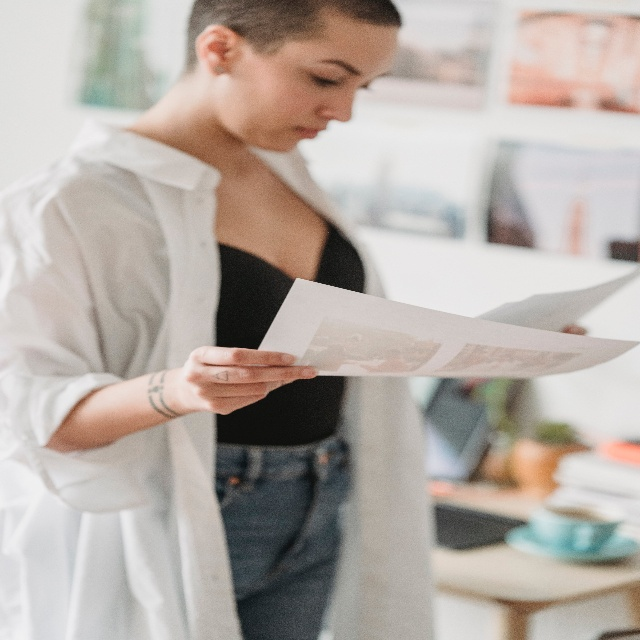Sin_guantes: (182, 339, 319, 418)
